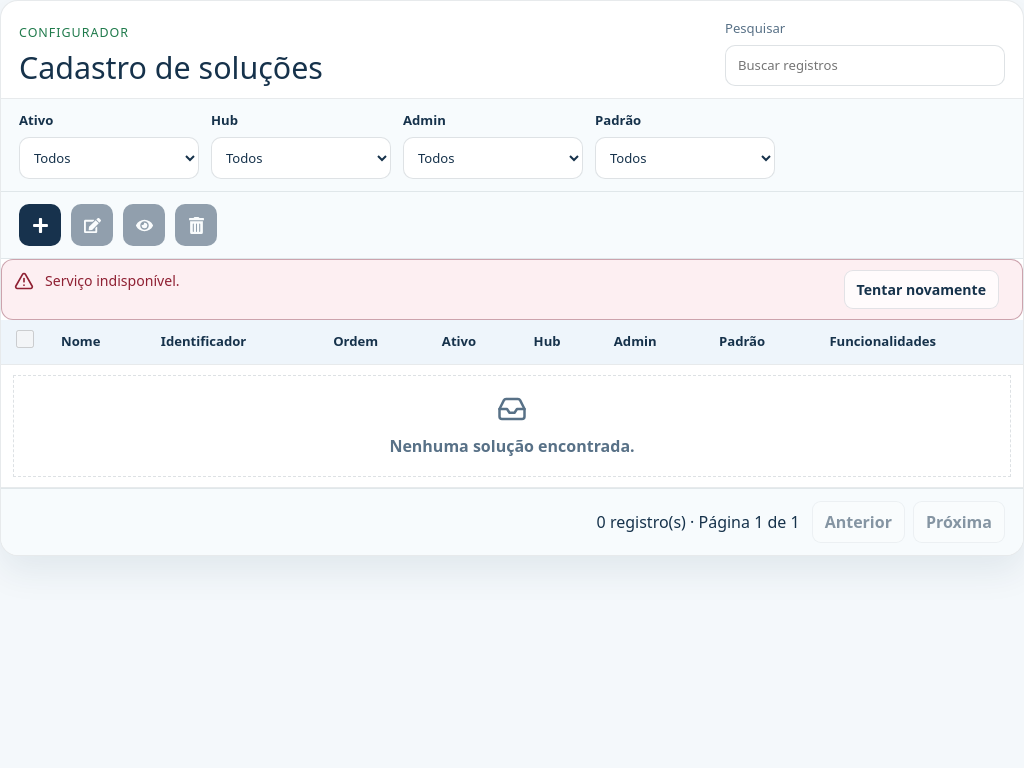
Test: CRUDs do Configurador › recupera o cadastro de soluções após falha de carregamento
Expected: the message shows "Serviço indisponível.", x1=45 y1=271 x2=180 y2=290
Click the button "Tentar novamente" at x=921, y=290, box x1=844 y1=270 x2=999 y2=309
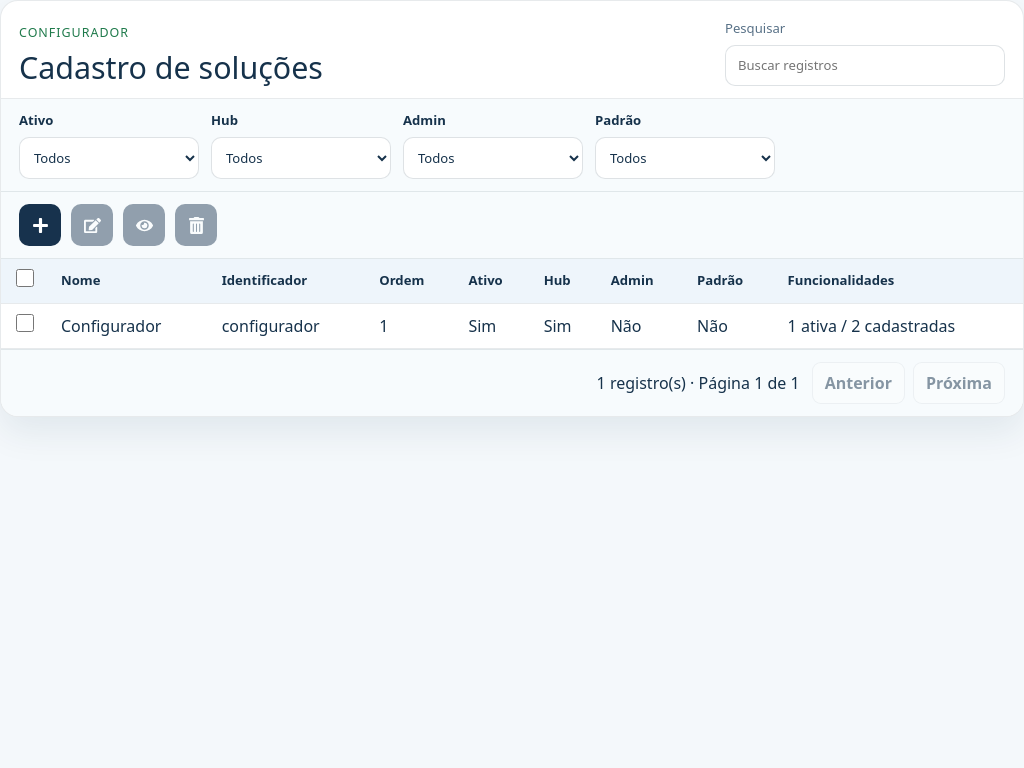
Now the cell "Configurador" is shown, box x1=49 y1=303 x2=210 y2=348
Now the message "Serviço indisponível. Tentar novamente" is gone
